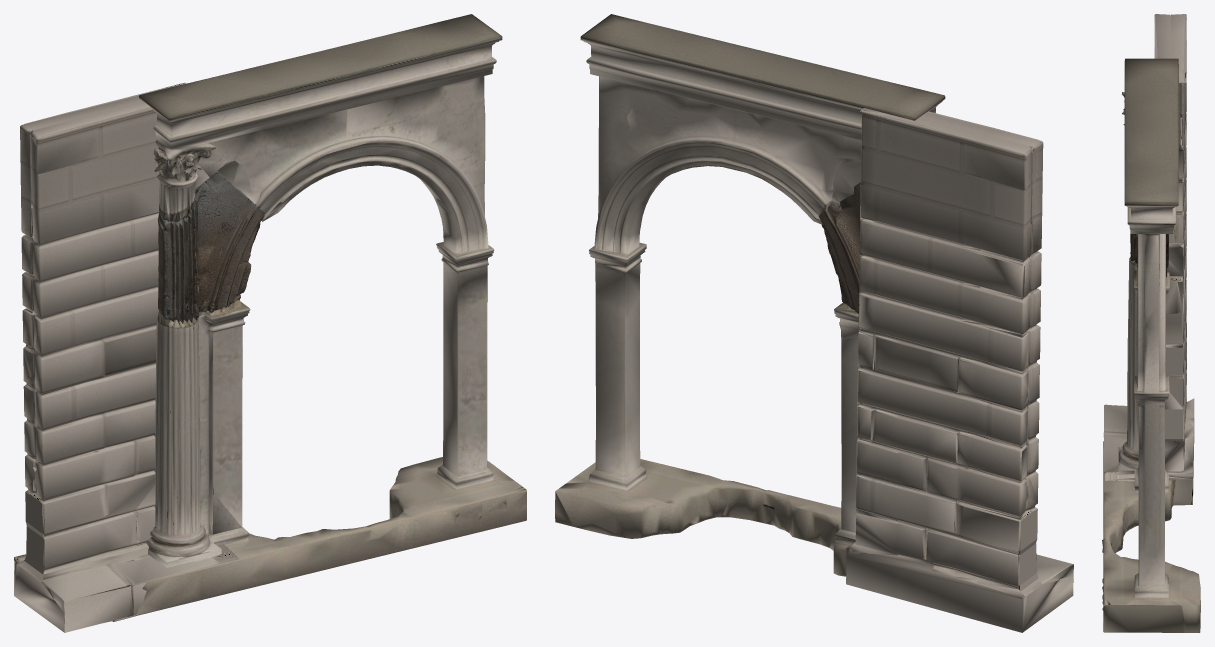
File: arcageo.glb
3 renders of one model, left to right at view 1: azimuth 30°, elevation 25°; view 2: azimuth 150°, elevation 25°; view 3: azimuth 270°, elevation 25°, orthographic. The views are drawn at different scales.
Parts seen in each view (by area): view 1: arca; view 2: arca; view 3: arca.
Boxes of the visible parts, bbox=[...] form: arca: bbox=[14, 14, 526, 632]; arca: bbox=[555, 14, 1073, 632]; arca: bbox=[1102, 14, 1200, 632].
Size of the model in its own units: 5.71 by 5.65 by 1.19.
4 materials, 4 textured.
